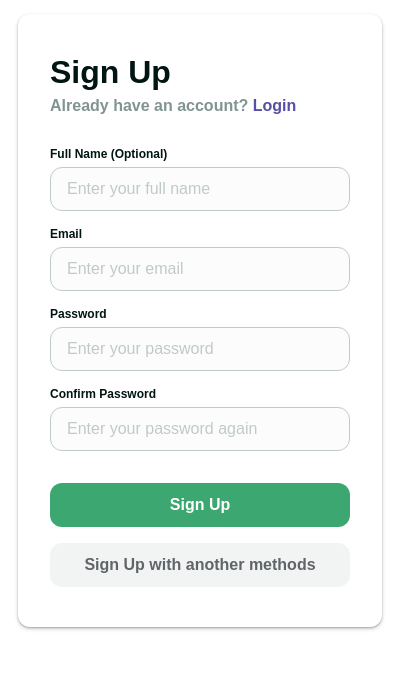
Scenario: <SignUpEmail /> › Submit sign up form › should show error when email is empty
The width and height of the screenshot is (401, 687).
Step 1. Click the button "Sign Up" → {"x": 200, "y": 505}, box [50, 483, 350, 527]
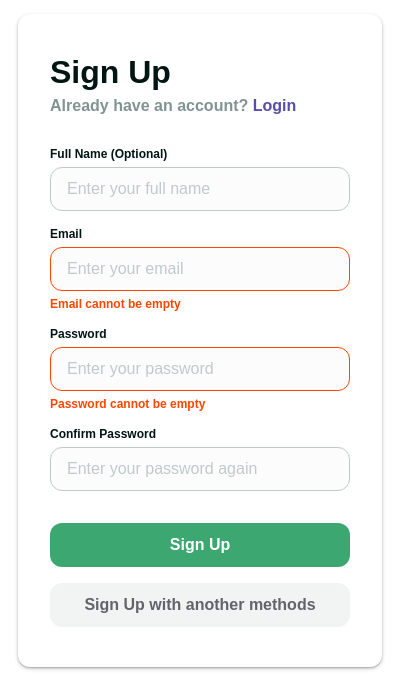
Expected: the text "Email cannot be empty" is shown, [50, 297, 181, 311]
